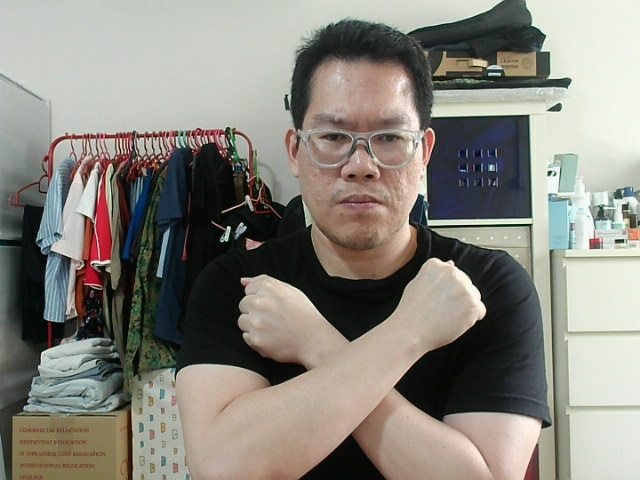love: (406, 263, 483, 330)
